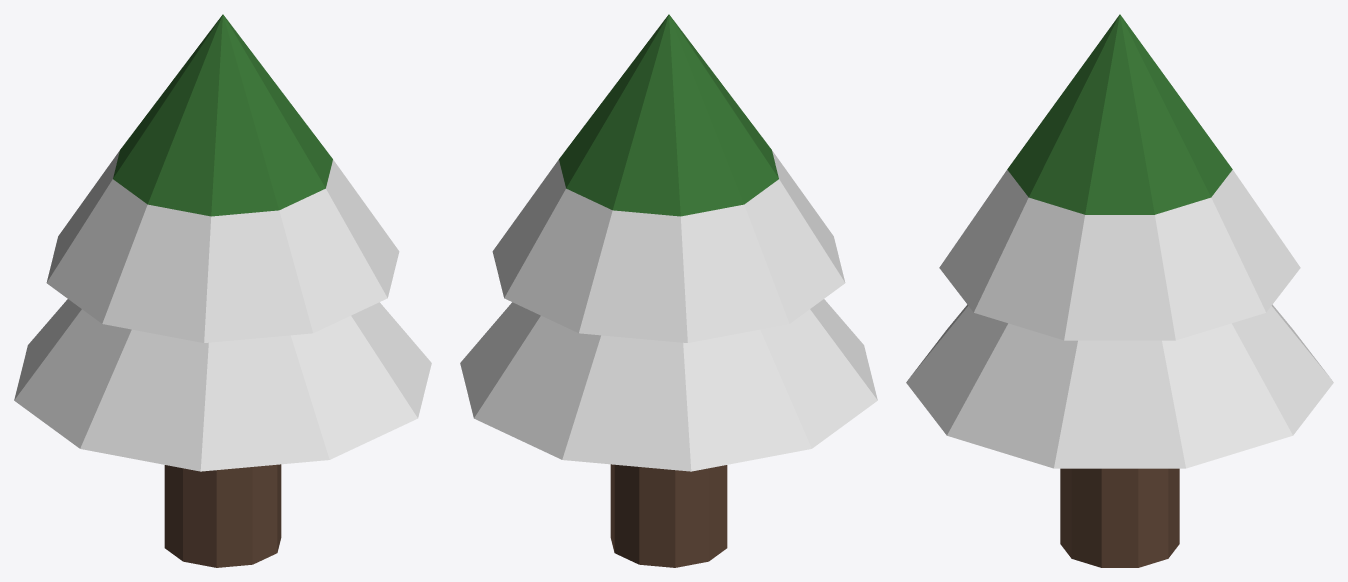
The model's file is SnowyTree.fbx.
The picture shows the model from 3 angles, left to right: view 1: azimuth 30°, elevation 25°; view 2: azimuth 150°, elevation 25°; view 3: azimuth 270°, elevation 25°; orthographic projection.
Parts seen in each view (by area): view 1: TreeTop, Stump; view 2: TreeTop, Stump; view 3: TreeTop, Stump.
Part boxes in pixels (box(x1,y1,x2,y2)): TreeTop: box(14, 14, 431, 471); Stump: box(164, 464, 281, 567); TreeTop: box(460, 14, 877, 471); Stump: box(610, 464, 727, 567); TreeTop: box(906, 14, 1333, 468); Stump: box(1060, 468, 1179, 567).
Bounding box in the file's own units: 365 × 524 × 383.
